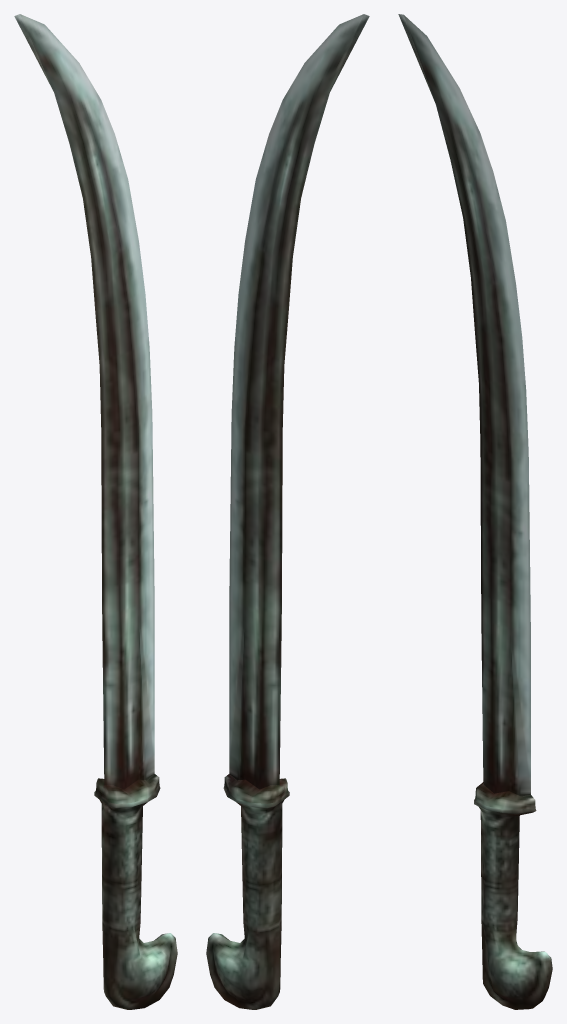
Rendered from weapon-etched-yatagan.glb.
3 renders of one model, left to right at view 1: azimuth 30°, elevation 25°; view 2: azimuth 150°, elevation 25°; view 3: azimuth 330°, elevation 25°, orthographic. The views are drawn at different scales.
Parts seen in each view (by area): view 1: curvedSwordF_MDL_q; view 2: curvedSwordF_MDL_q; view 3: curvedSwordF_MDL_q.
Boxes of the visible parts, bbox=[...] form: curvedSwordF_MDL_q: bbox=[14, 14, 177, 1009]; curvedSwordF_MDL_q: bbox=[206, 14, 369, 1009]; curvedSwordF_MDL_q: bbox=[398, 14, 552, 1009].
Size of the model in its own units: 0.2411 by 1.45 by 0.0683.
1 material, 1 textured.
